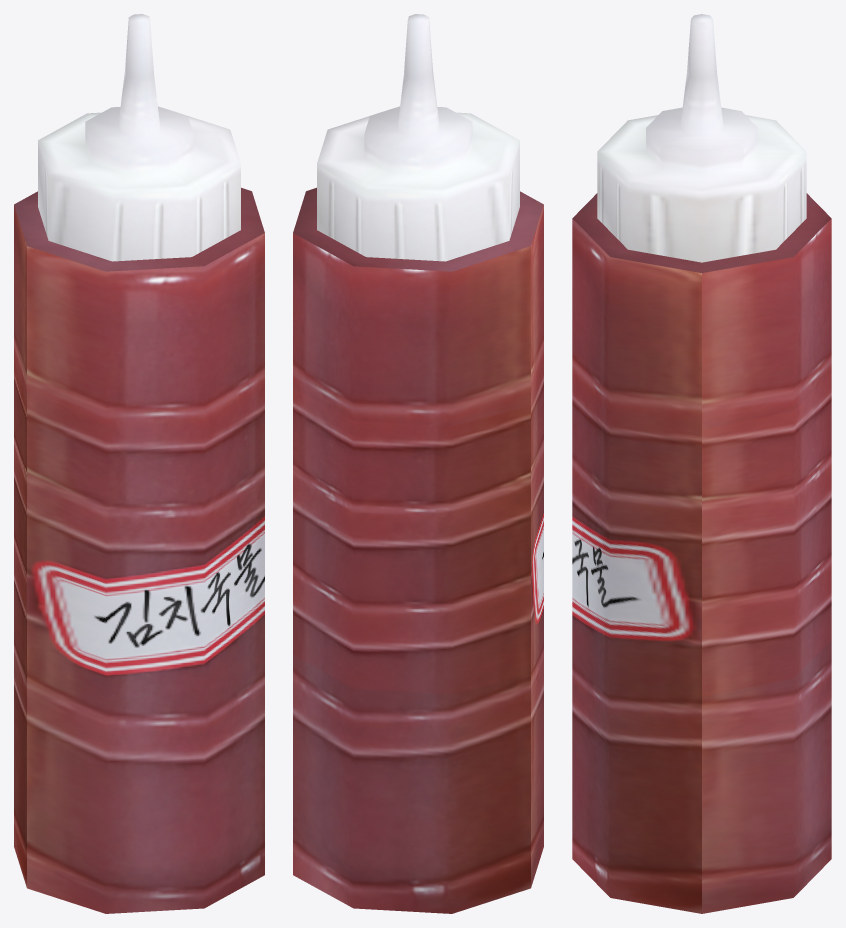
Rendered from sauce1.glb.
3 renders of one model, left to right at view 1: azimuth 30°, elevation 25°; view 2: azimuth 150°, elevation 25°; view 3: azimuth 270°, elevation 25°, orthographic.
Visible parts, largest first — view 1: Cylinder.003, Cylinder.004; view 2: Cylinder.003, Cylinder.004; view 3: Cylinder.003, Cylinder.004.
Boxes of the visible parts, x1,y1,x2,y2 form: Cylinder.003: [14, 187, 264, 913]; Cylinder.004: [38, 14, 240, 261]; Cylinder.003: [293, 187, 543, 913]; Cylinder.004: [317, 14, 519, 261]; Cylinder.003: [572, 193, 831, 913]; Cylinder.004: [597, 14, 806, 262].
Size of the model in its own units: 0.065 by 0.2326 by 0.065.
2 materials, 2 textured.
